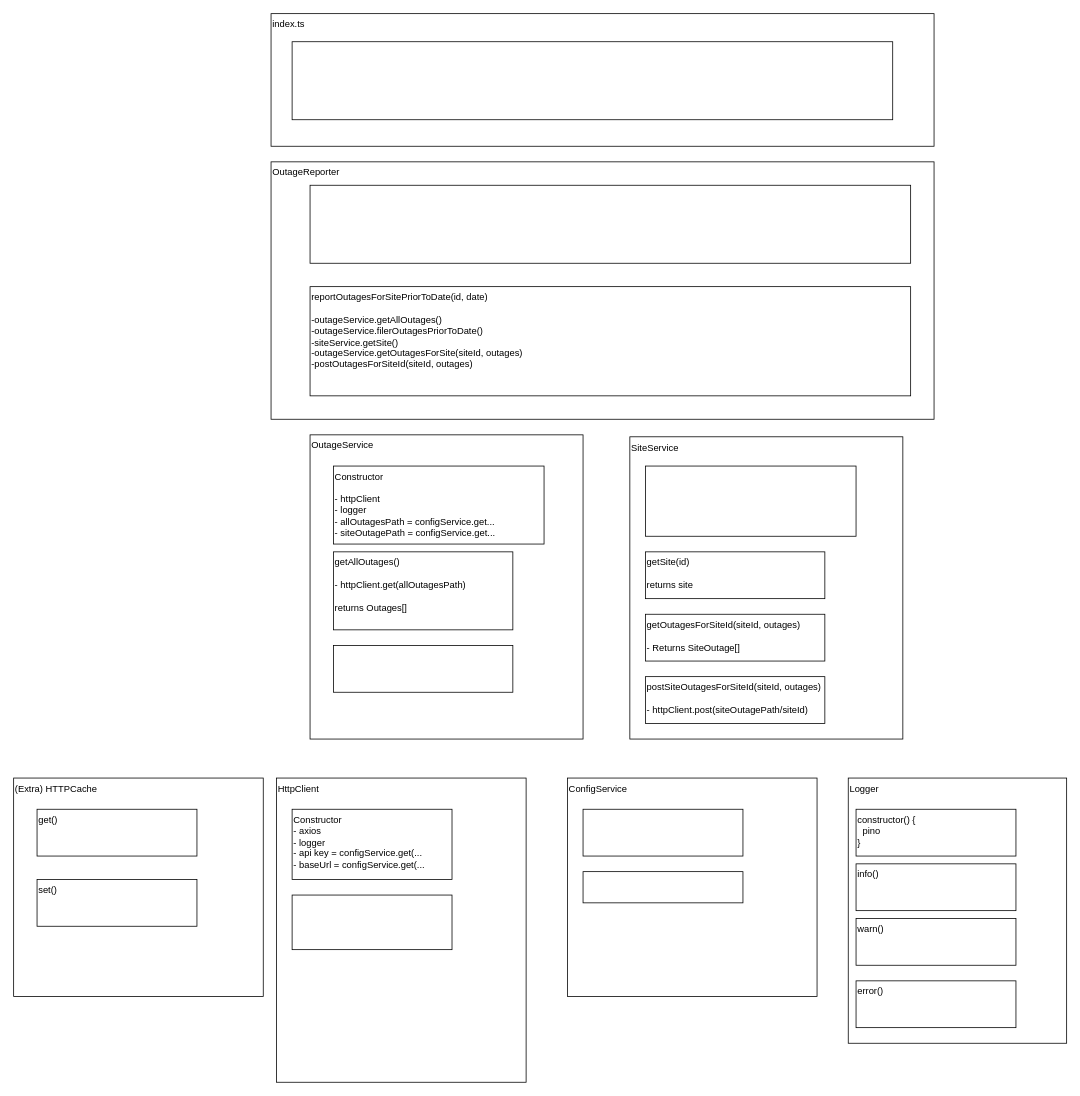
The diagram is 1080 pixels wide and 1096 high, and some of its shapes have lost their labels. The shapes that lost their labels are listed below. From the top down, each one's centre as x and y in pixels, then its label:
[592,80]: - Create dependencies - Call reportOutagesForSitePriorToDate
[610,223]: Constructor - logger - outageService - siteService
[750,500]: Constructor - httpClient - logger - siteOutagePath = configService.get...
[423,668]: filterOutagesPriorToDate Returns Outages[]
[662,832]: Constructor - logger - configObject
[662,887]: get(key)
[371,922]: Get (extra - extend so that you're recursively retrying) --
